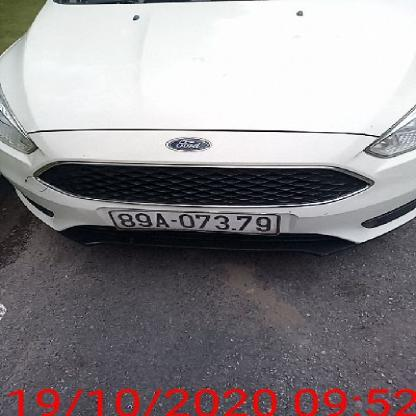biensoxe: (109, 200, 285, 243)
